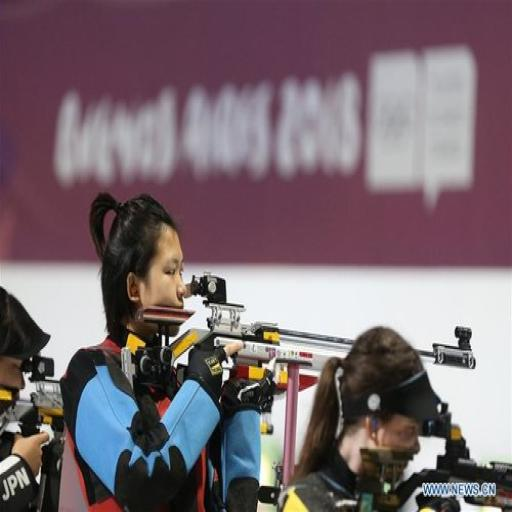shooting: (58, 189, 266, 511), (274, 323, 458, 510)
